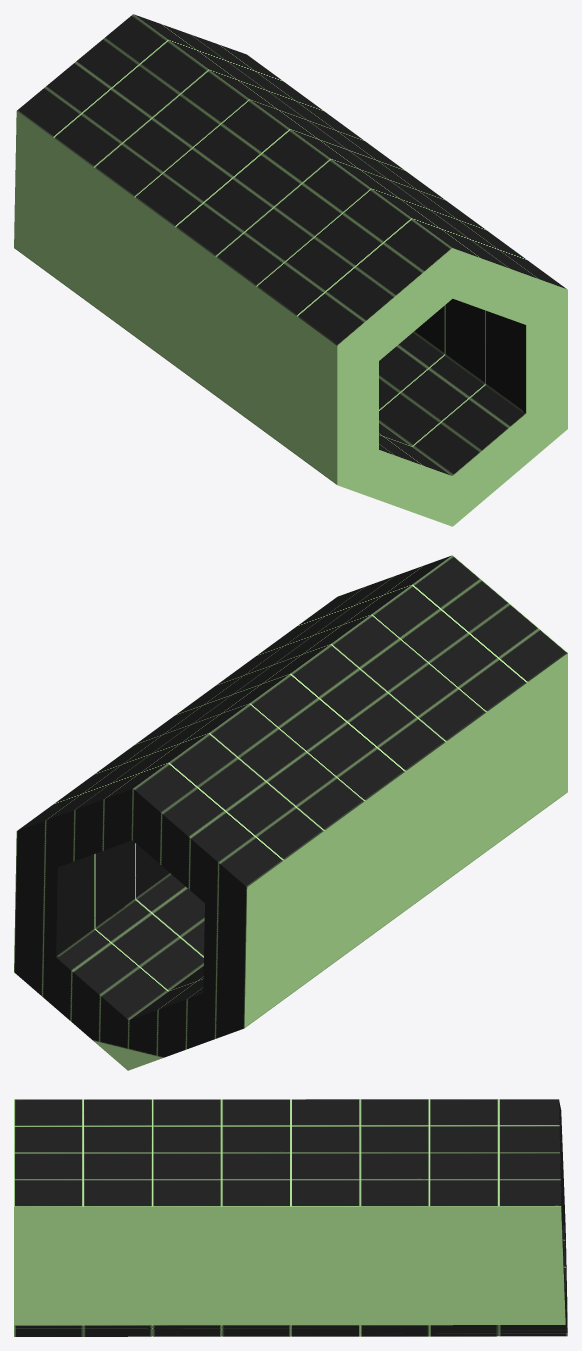
File: block.fbx
3 renders of one model, top to bottom at view 1: azimuth 30°, elevation 25°; view 2: azimuth 150°, elevation 25°; view 3: azimuth 270°, elevation 25°, orthographic. The views are drawn at different scales.
Visible parts, largest first — view 1: Torus.001; view 2: Torus.001; view 3: Torus.001.
Part boxes in pixels (x1,y1,x2,y2): Torus.001: (14,14,567,526); Torus.001: (14,555,567,1070); Torus.001: (14,1099,567,1336).
Bounding box in the file's own units: 1516 × 1752 × 3697.
